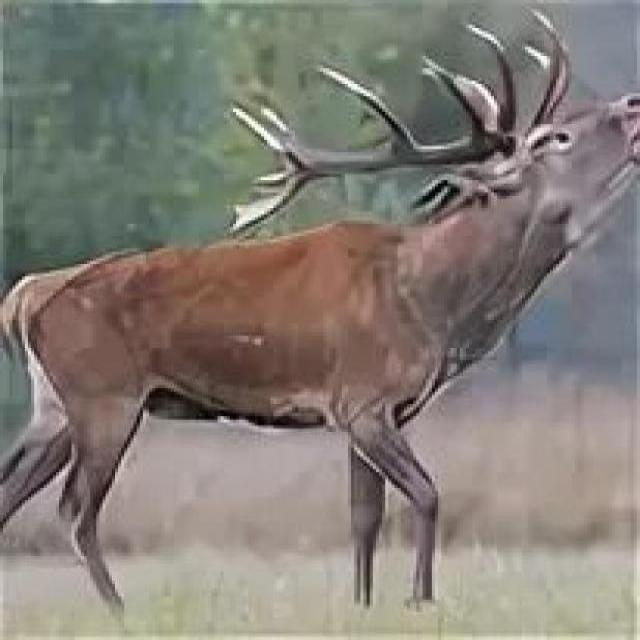deer: (17, 70, 640, 507)
